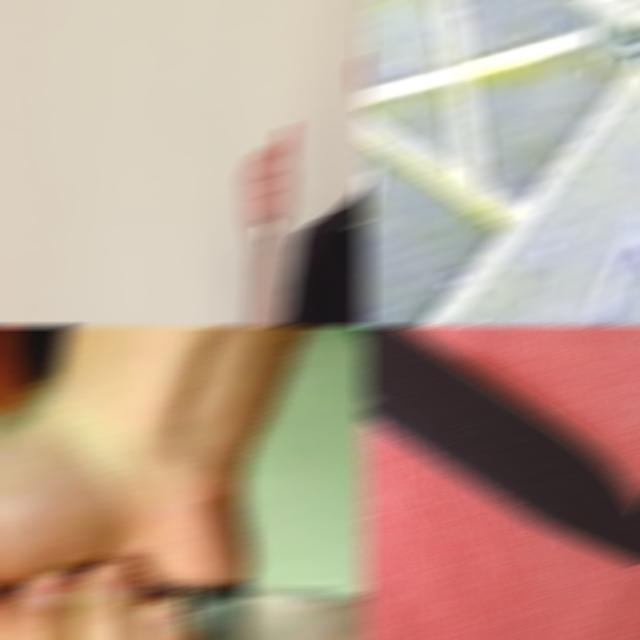Knife_Handle: (0, 462, 368, 638), (241, 124, 296, 324), (569, 287, 625, 324)
